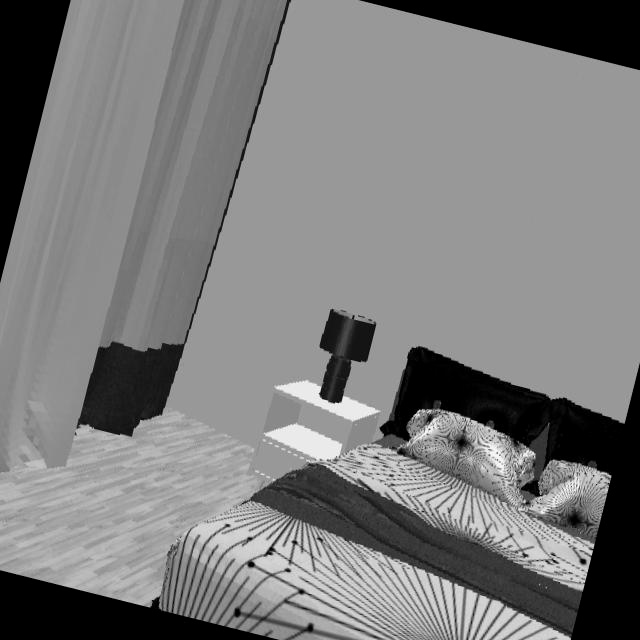bed: (154, 346, 624, 640)
lamp: (318, 309, 376, 403)
nighttable: (248, 380, 381, 482)
pillow: (397, 408, 535, 512), (527, 461, 611, 538)
